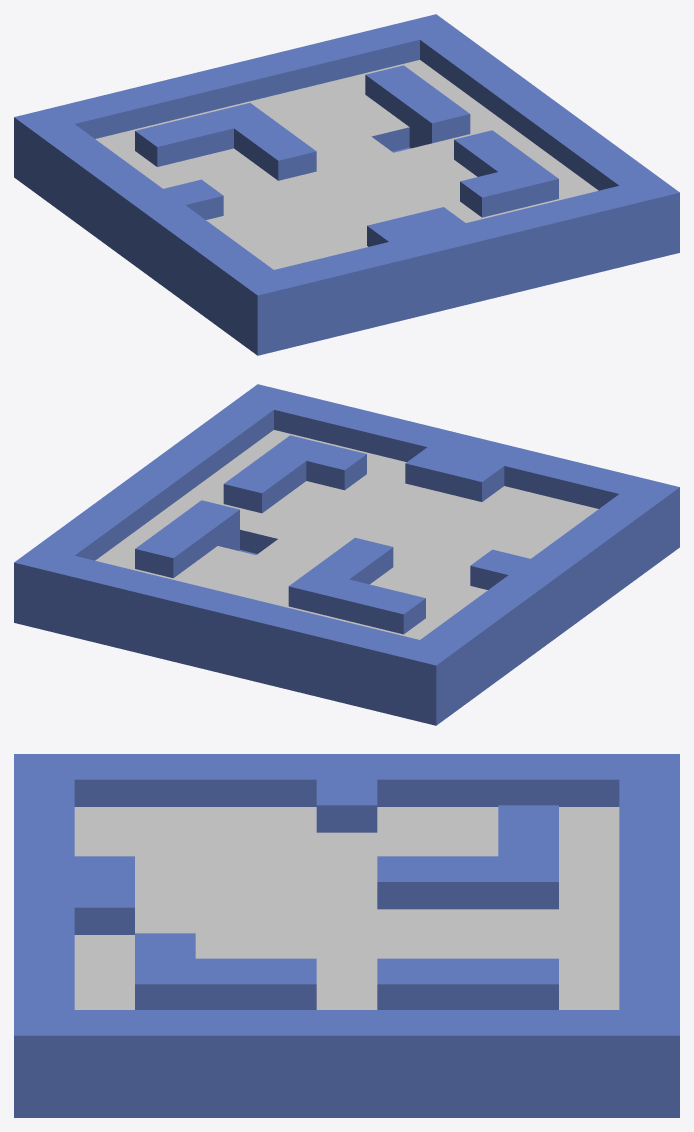
The model's file is 050_platform.fbx.
The picture shows the model from 3 angles, top to bottom: view 1: azimuth 30°, elevation 25°; view 2: azimuth 150°, elevation 25°; view 3: azimuth 270°, elevation 25°; orthographic projection. The views are drawn at different scales.
Parts seen in each view (by area): view 1: Cube; view 2: Cube; view 3: Cube.
Boxes of the visible parts, box(x1,y1,x2,y2) form: Cube: box(14, 14, 679, 355); Cube: box(14, 384, 679, 725); Cube: box(14, 754, 679, 1117).
Size of the model in its own units: 1100 by 150 by 1100.
